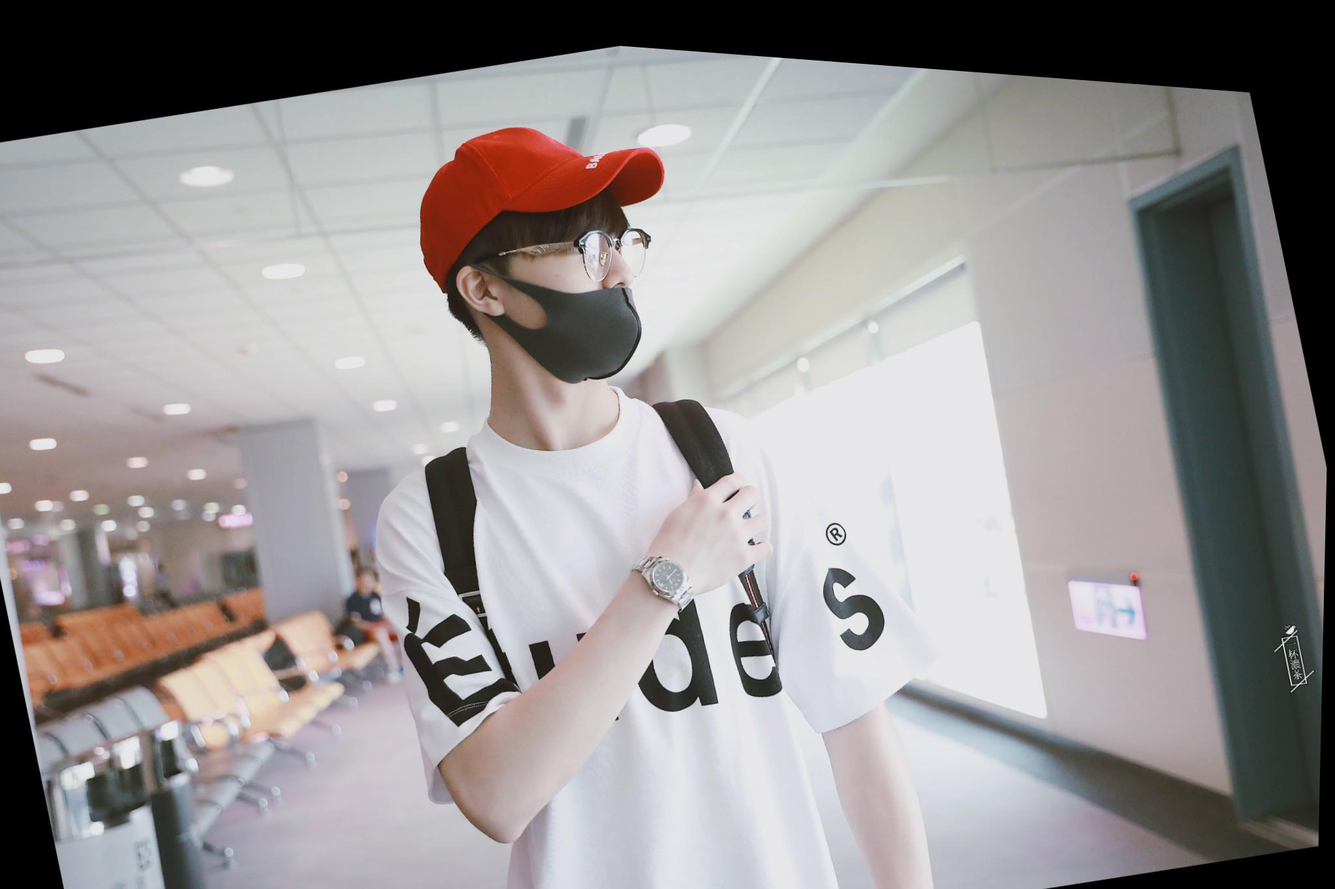WRONG: (498, 192, 662, 395)
